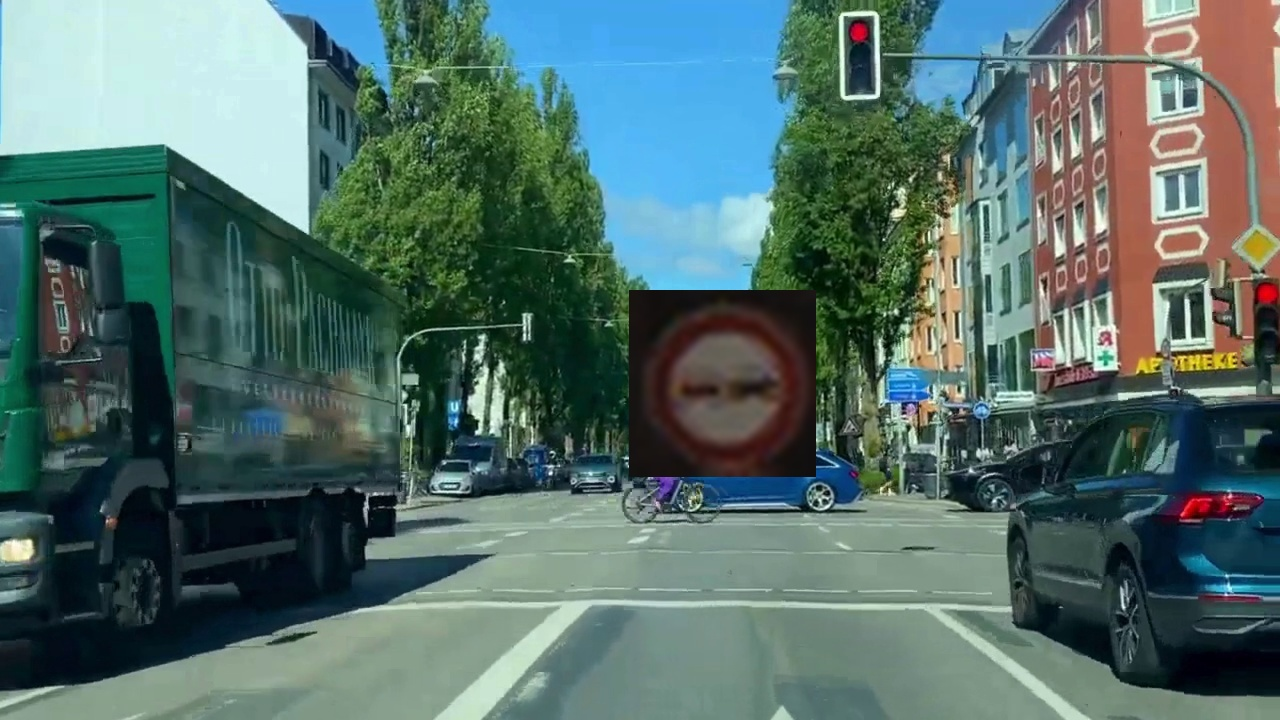No passing: (629, 290, 816, 477)
